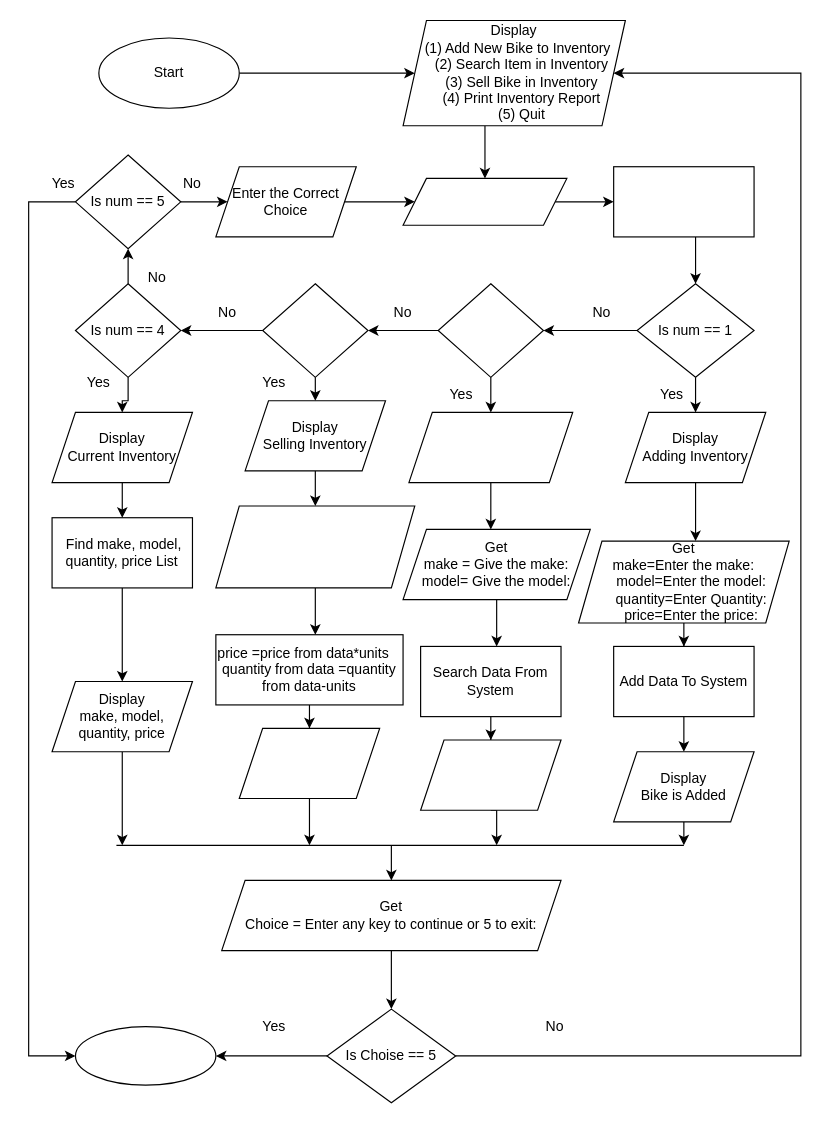
Some shapes in this 831 by 1123 pixel diagram are drawn without their labels. The shapes that lost their labels are listed below. From the top down, each one's centre as x and y in pixels, then its label:
At [484,201]: "Get num=Enter choice:".
At [683,201]: "Convert num to Integer".
At [314,330]: "Is num == 3".
At [490,330]: "Is num == 2".
At [490,447]: "Display Searching Inventory".
At [315,546]: "Get make = Give the make: model= Give the model: units= Number of bikes:".
At [309,763]: "Display Price".
At [490,774]: "Display Item from List".
At [145,1055]: "Stop".
